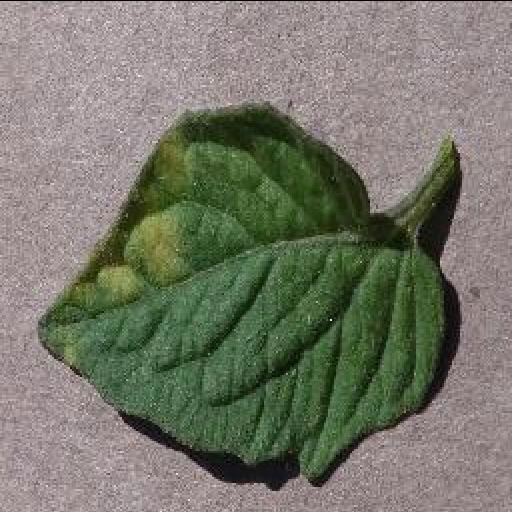disease_tomato: (36, 102, 446, 480)
